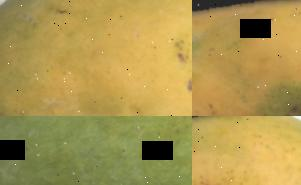PartiallyRipe: (0, 0, 192, 116), (192, 116, 301, 185)
Ripe: (192, 0, 301, 116)
Unripe: (0, 116, 192, 185)
